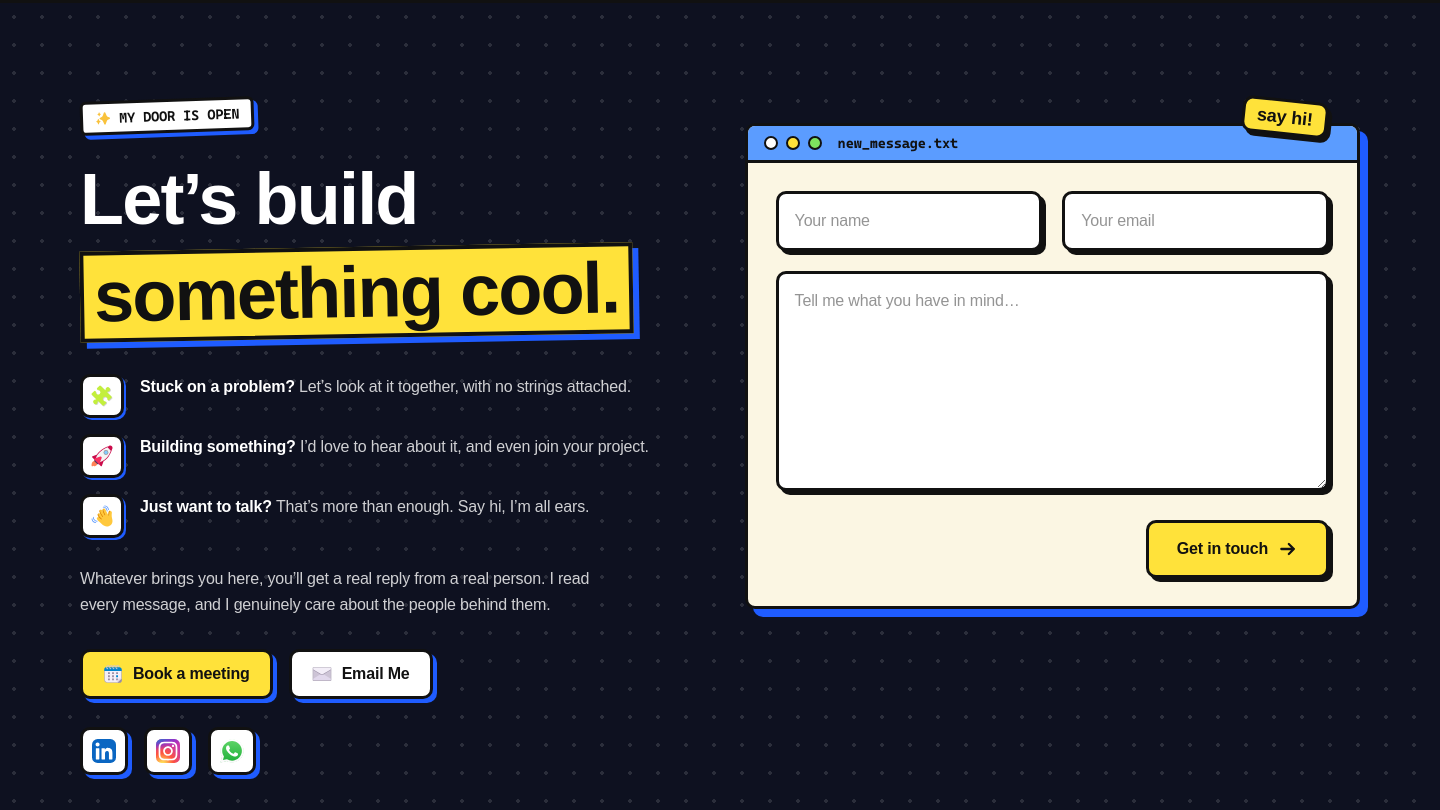
Scenario: explains what is missing instead of sending
Type "not-an-email" into the field labelled "Your email" at (1196, 221), box [1062,191,1329,251]
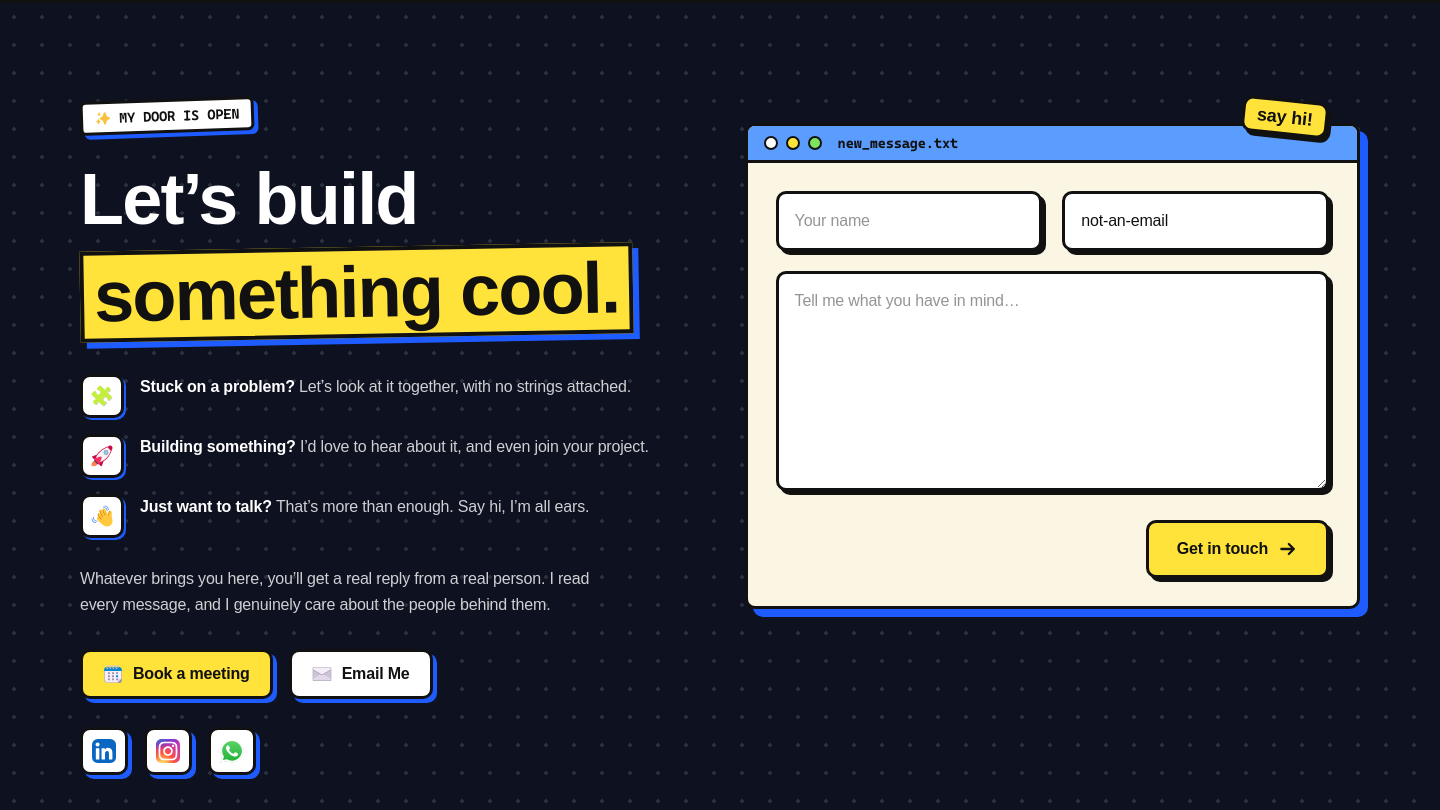
Click the button "Get in touch" at (1237, 549), box [1146,520,1329,578]
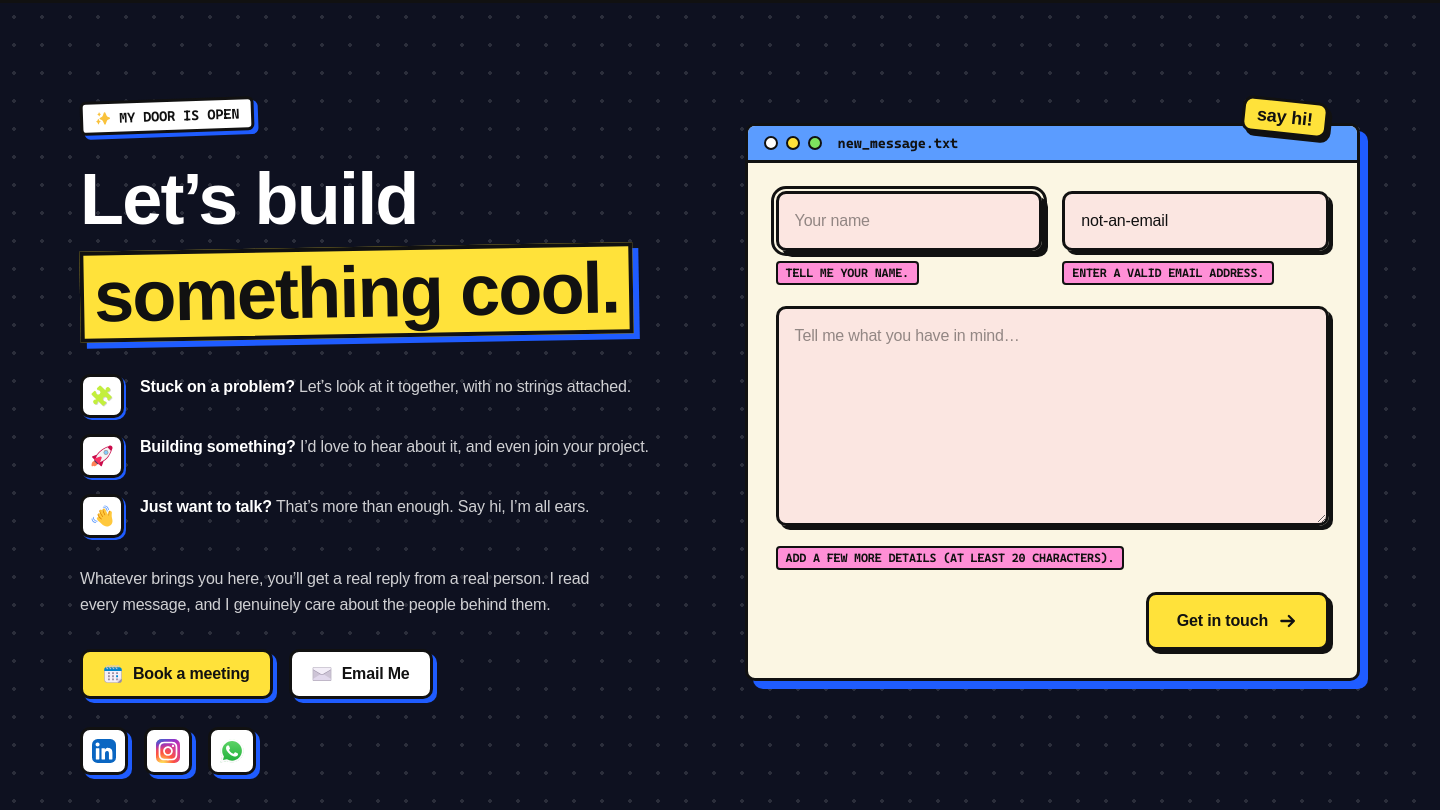
Now the text "Tell me your name." is shown, box [776,261,919,285]
